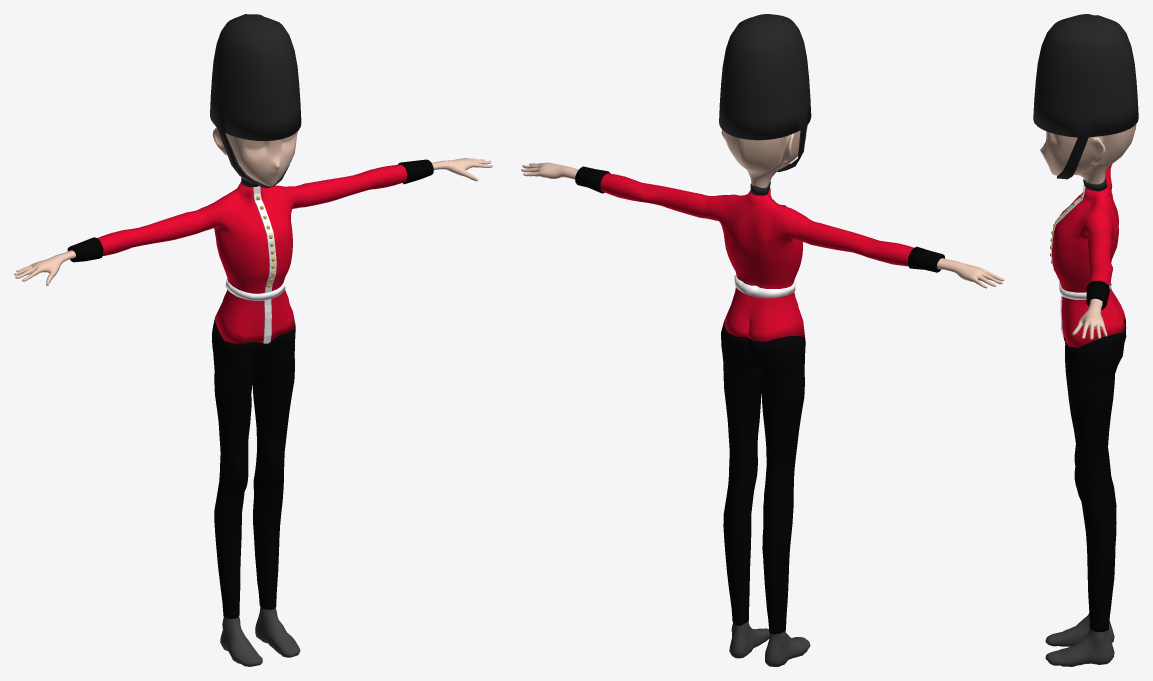
The model's file is RoyalGuard2.fbx.
3 renders of one model, left to right at view 1: azimuth 30°, elevation 25°; view 2: azimuth 150°, elevation 25°; view 3: azimuth 270°, elevation 25°, orthographic.
Visible parts, largest first — view 1: pants, Shirt, Hat, Head, Shoes, body, CufflinkArms, Stripe; view 2: pants, Shirt, Hat, Head, body, Shoes, CufflinkArms; view 3: Hat, pants, Shirt, Head, Shoes, body, CufflinkArms, Stripe, Belt, CufflinkNeck.
Boxes of the visible parts, x1=… form: pants: x1=212, y1=316, x2=295, y2=618; Shirt: x1=97, y1=164, x2=407, y2=343; Hat: x1=210, y1=14, x2=301, y2=188; Head: x1=212, y1=127, x2=297, y2=186; Shoes: x1=220, y1=607, x2=300, y2=666; body: x1=14, y1=158, x2=492, y2=285; CufflinkArms: x1=67, y1=159, x2=433, y2=262; Stripe: x1=253, y1=186, x2=276, y2=343; pants: x1=721, y1=321, x2=805, y2=634; Shirt: x1=600, y1=173, x2=913, y2=341; Hat: x1=719, y1=14, x2=811, y2=171; Head: x1=721, y1=125, x2=807, y2=172; body: x1=521, y1=161, x2=1004, y2=288; Shoes: x1=729, y1=621, x2=810, y2=666; CufflinkArms: x1=575, y1=166, x2=944, y2=272; Hat: x1=1033, y1=14, x2=1138, y2=179; pants: x1=1063, y1=319, x2=1126, y2=632; Shirt: x1=1052, y1=164, x2=1125, y2=347; Head: x1=1040, y1=124, x2=1136, y2=175; Shoes: x1=1045, y1=613, x2=1114, y2=666; body: x1=1072, y1=161, x2=1110, y2=339; CufflinkArms: x1=1086, y1=280, x2=1109, y2=309; Stripe: x1=1051, y1=184, x2=1085, y2=337; Belt: x1=1059, y1=281, x2=1111, y2=299; CufflinkNeck: x1=1083, y1=178, x2=1106, y2=191.
Bounding box in the file's own units: 139 × 175 × 26.45.
